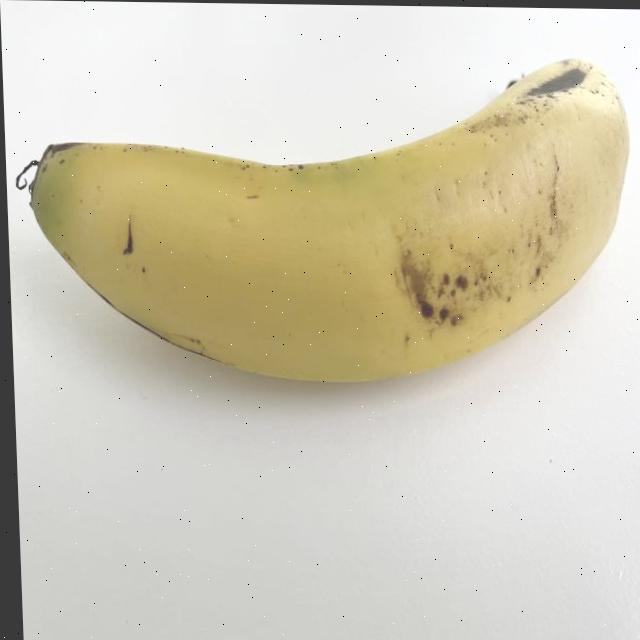banana: (4, 45, 640, 398)
